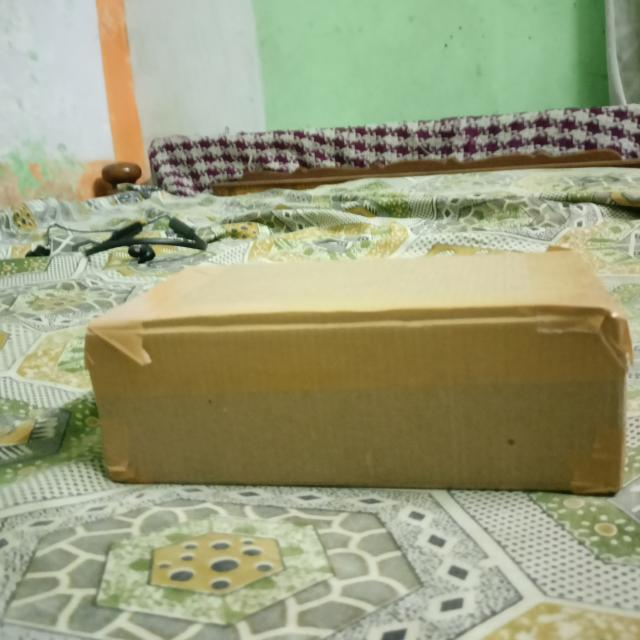box: (91, 314, 622, 494)
